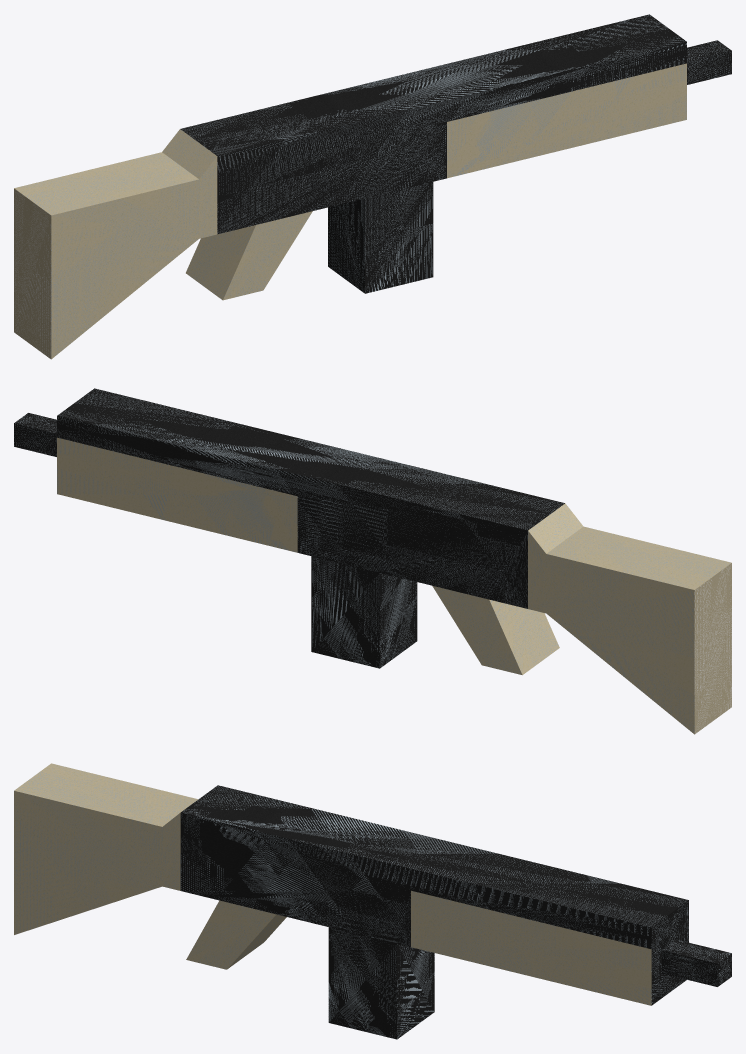
File: machinegun.dae
3 views of the same model, one above another, from view 1: azimuth 30°, elevation 25°; view 2: azimuth 150°, elevation 25°; view 3: azimuth 330°, elevation 25° (orthographic).
Visible parts, largest first — view 1: SketchUp (×5); view 2: SketchUp (×5); view 3: SketchUp (×5).
Part boxes in pixels (x1,y1,x2,y2): SketchUp (×5): (14,14,731,359); SketchUp (×5): (14,388,731,734); SketchUp (×5): (14,763,731,1039).
Bounding box in the file's own units: 603 × 56.3 × 145.
Materials: 4 (2 with a texture image).
